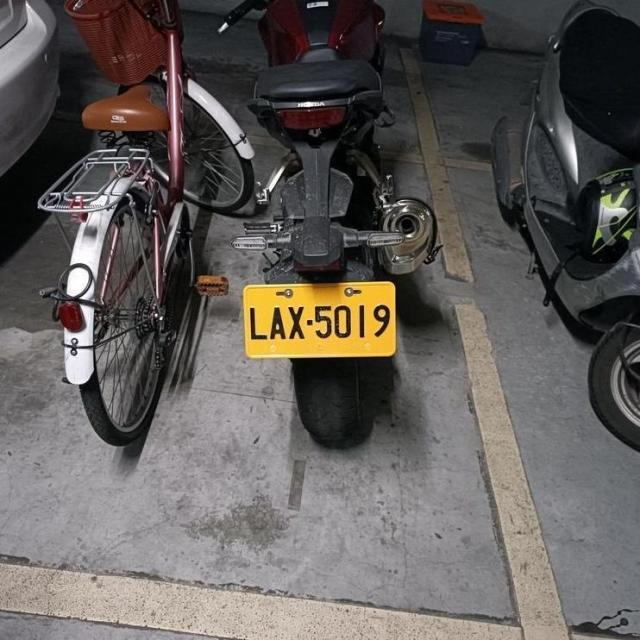Y: (240, 277, 399, 361)
